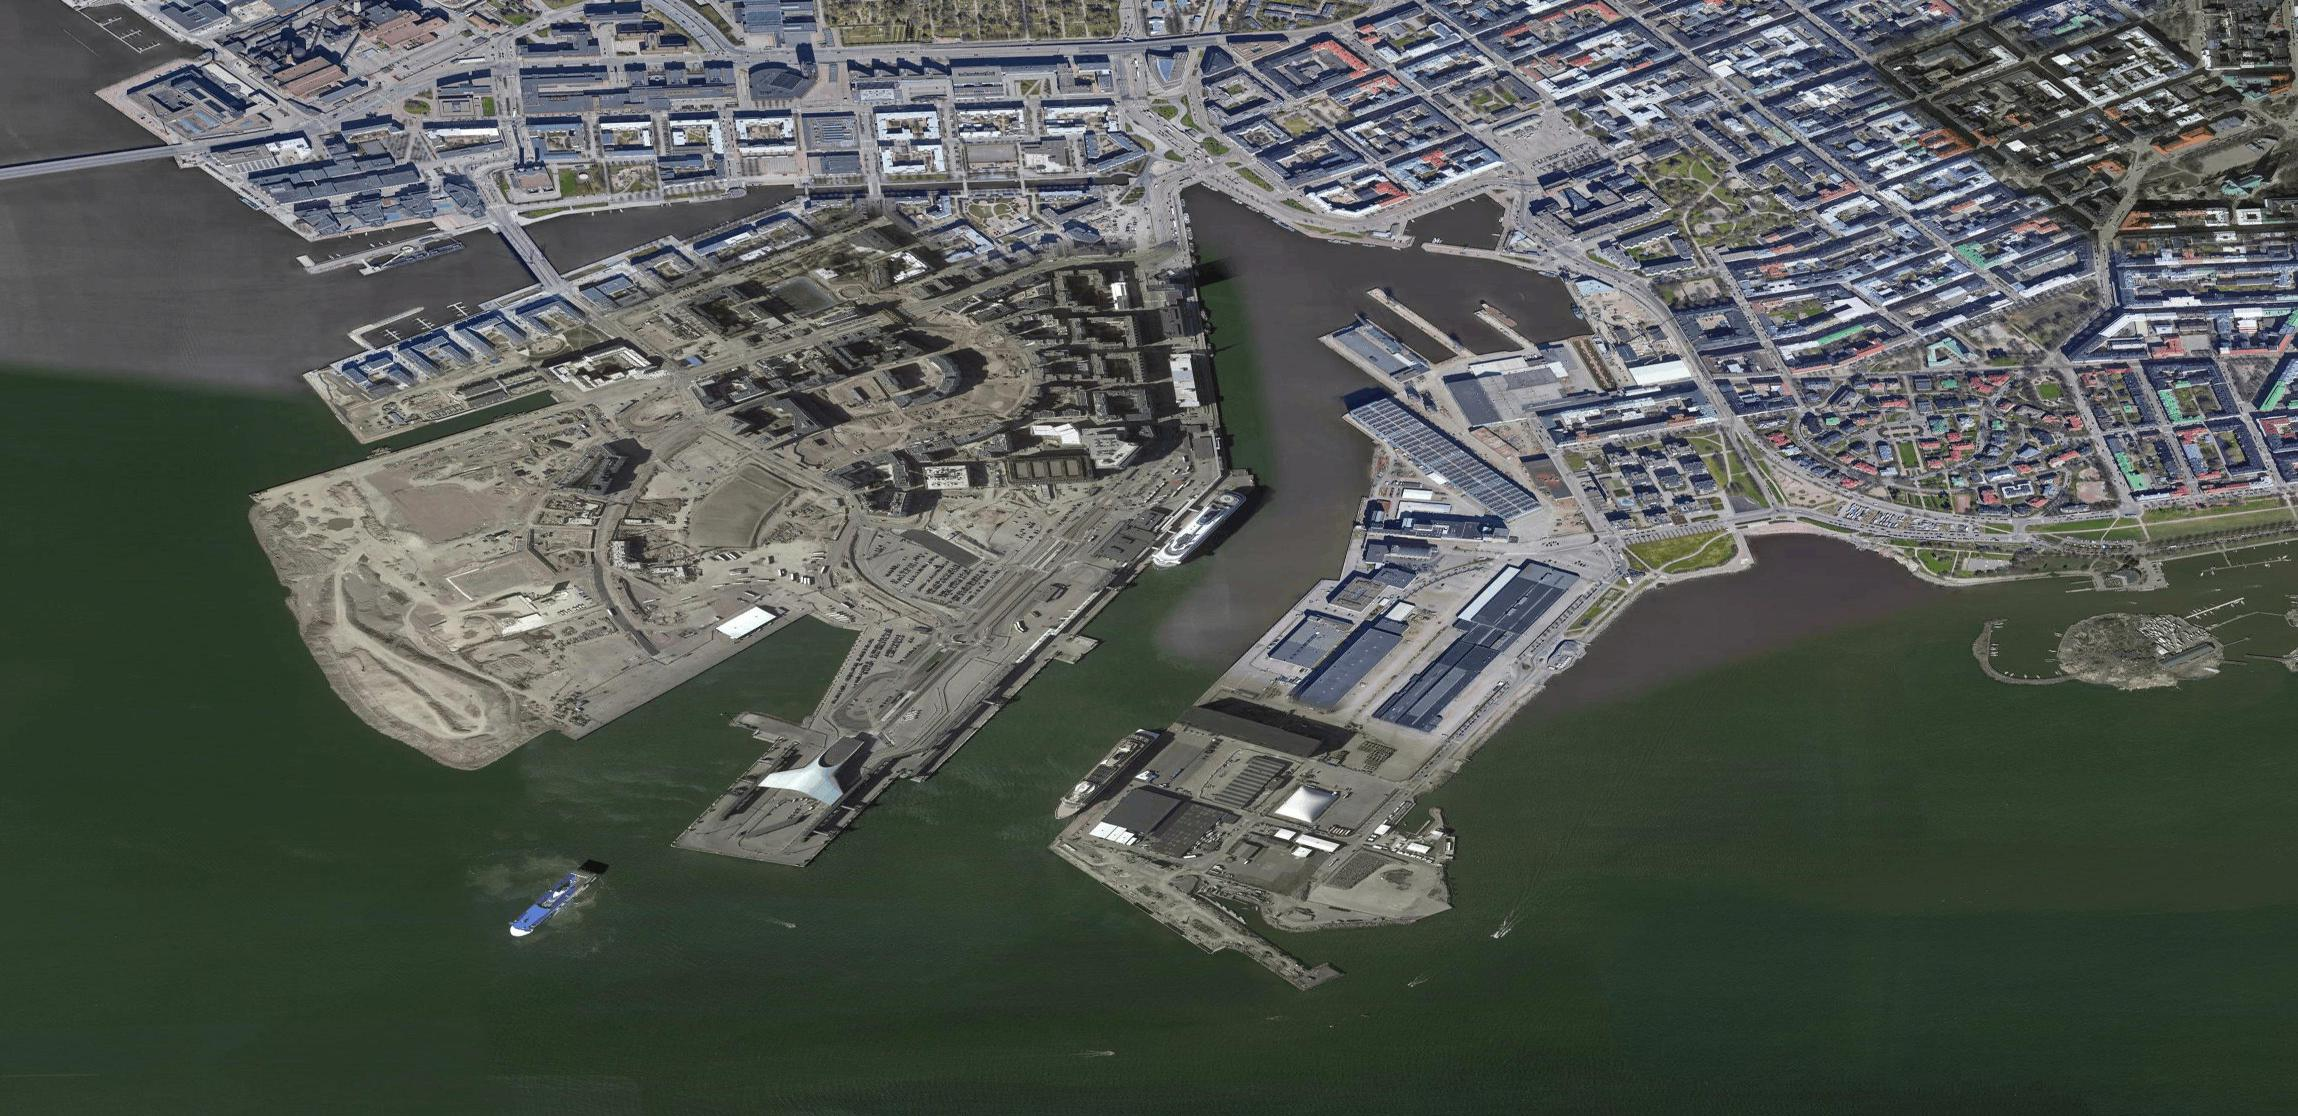harbor: (116, 236, 1825, 1025)
